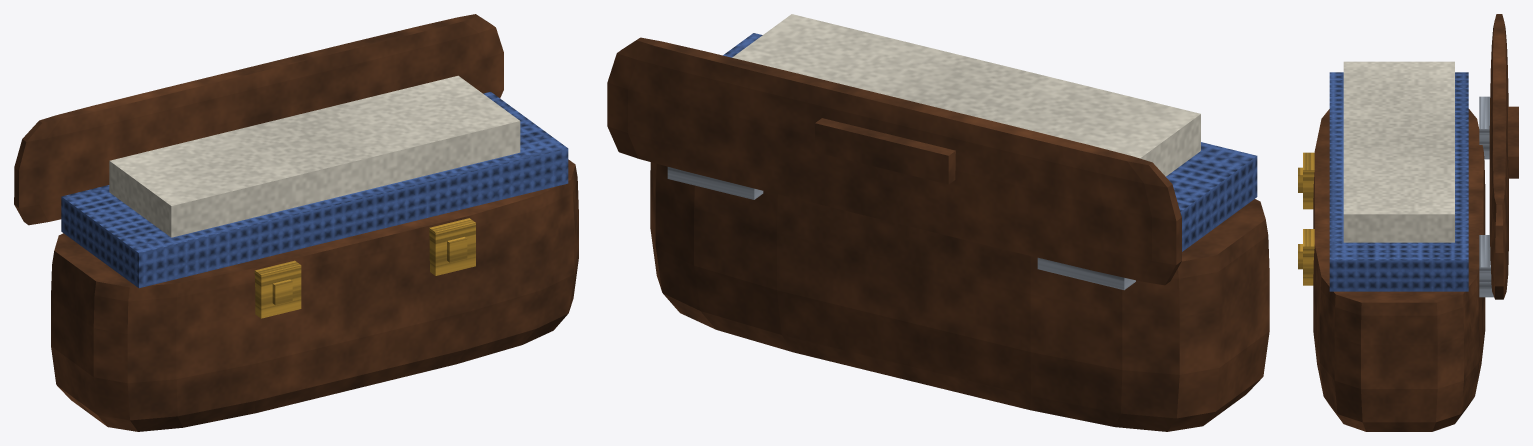
The model's file is suitcase_open.fbx.
3 views of the same model, side by side, from view 1: azimuth 30°, elevation 25°; view 2: azimuth 150°, elevation 25°; view 3: azimuth 270°, elevation 25° (orthographic). The views are drawn at different scales.
Visible parts, largest first — view 1: suitcase_open; view 2: suitcase_open; view 3: suitcase_open.
Part boxes in pixels (x1,y1,x2,y2): suitcase_open: [14, 14, 578, 431]; suitcase_open: [607, 14, 1269, 431]; suitcase_open: [1298, 14, 1518, 431].
Size of the model in its own units: 72.3 by 35.5 by 31.75.
